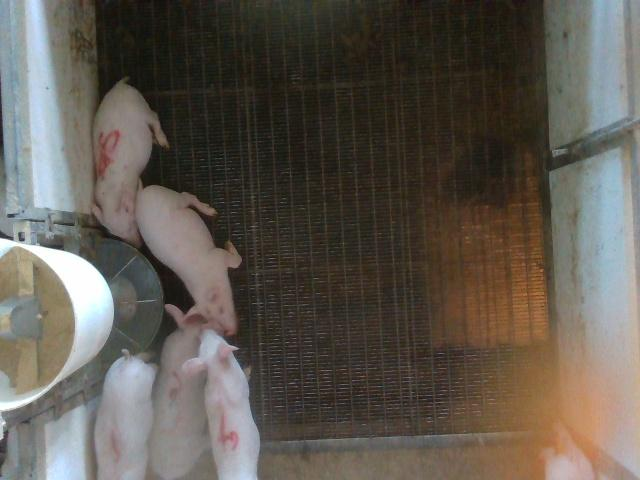pig-1: (96, 350, 158, 478)
pig-3: (149, 304, 210, 479)
pig-4: (182, 329, 260, 478)
pig-5: (91, 79, 169, 247)
